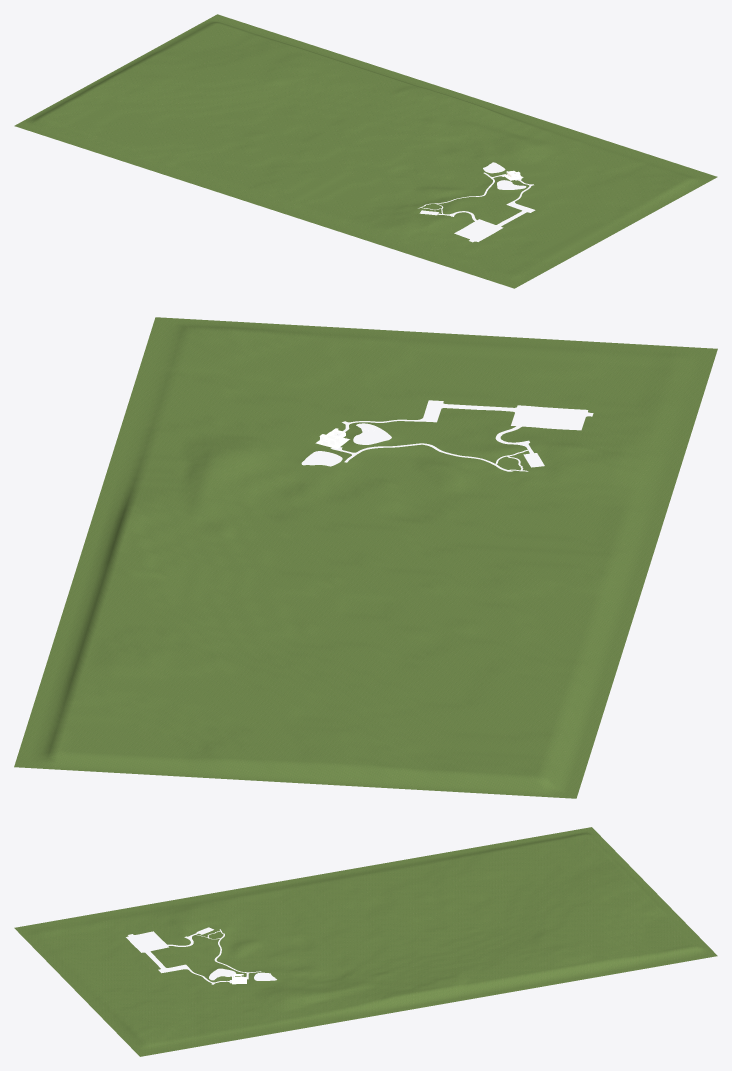
File: building1.glb
3 views of the same model, one above another, from view 1: azimuth 30°, elevation 25°; view 2: azimuth 150°, elevation 25°; view 3: azimuth 270°, elevation 25° (orthographic). The views are drawn at different scales.
Parts seen in each view (by area): view 1: landscape; view 2: landscape; view 3: landscape.
Boxes of the visible parts, x1,y1,x2,y2 form: landscape: (14, 14, 717, 288); landscape: (14, 317, 717, 798); landscape: (14, 827, 717, 1056).
Bounding box in the file's own units: 2384 × 29.01 × 3085.
4 materials, 2 textured.
